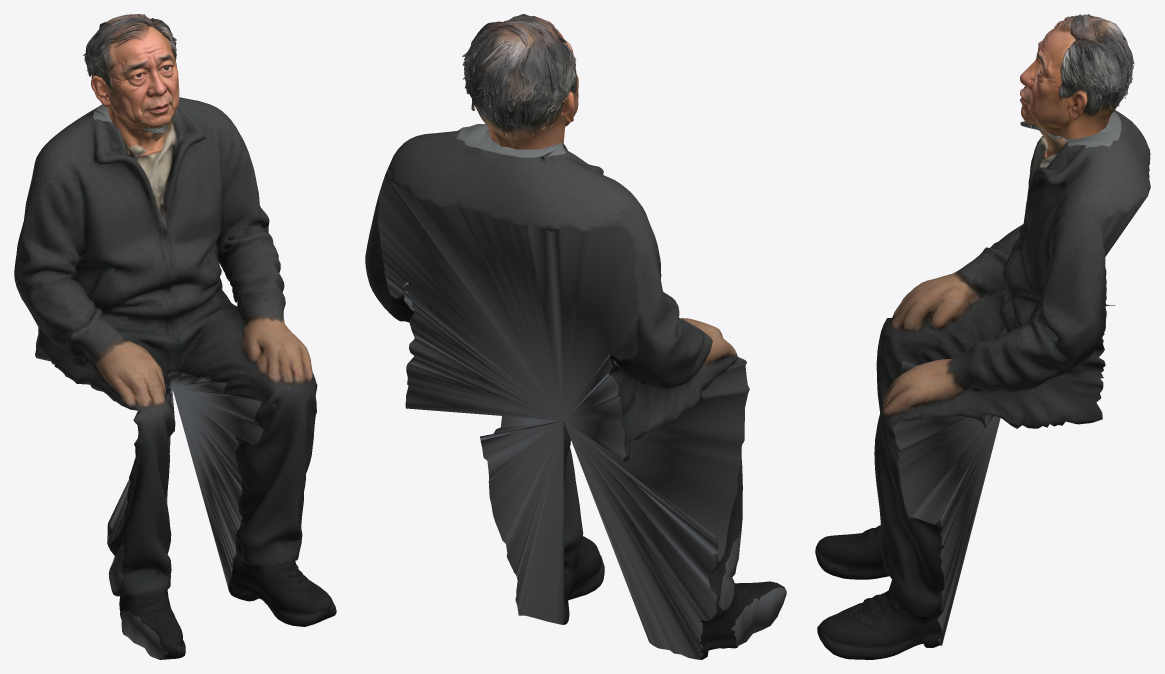
Rendered from lin-seated-clean.glb.
The picture shows the model from 3 angles, left to right: view 1: azimuth 30°, elevation 25°; view 2: azimuth 150°, elevation 25°; view 3: azimuth 270°, elevation 25°; orthographic projection. The views are drawn at different scales.
Parts seen in each view (by area): view 1: Lin_Seated_ChairRemoved_HandsCleaned, Clinic_Detailed_Head; view 2: Lin_Seated_ChairRemoved_HandsCleaned, Clinic_Detailed_Head; view 3: Lin_Seated_ChairRemoved_HandsCleaned, Clinic_Detailed_Head.
Boxes of the visible parts, x1,y1,x2,y2 form: Lin_Seated_ChairRemoved_HandsCleaned: (14, 97, 336, 659); Clinic_Detailed_Head: (83, 14, 179, 156); Lin_Seated_ChairRemoved_HandsCleaned: (365, 124, 786, 659); Clinic_Detailed_Head: (462, 14, 578, 149); Lin_Seated_ChairRemoved_HandsCleaned: (815, 110, 1150, 659); Clinic_Detailed_Head: (1020, 14, 1134, 159).
Bounding box in the file's own units: 0.6802 × 1.43 × 0.735.
Materials: 4 (2 with a texture image).
